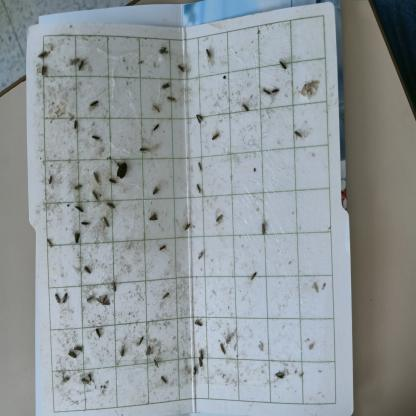prays_oleae: (297, 76, 324, 102), (94, 288, 112, 312), (115, 342, 132, 363), (275, 52, 290, 75), (207, 126, 224, 146), (191, 313, 206, 335), (248, 264, 261, 289), (146, 205, 160, 228), (93, 129, 106, 150), (260, 82, 274, 100), (109, 274, 120, 296), (61, 289, 72, 311), (271, 369, 287, 384), (92, 165, 102, 189), (70, 177, 86, 192), (159, 42, 171, 62), (259, 217, 269, 240), (292, 126, 304, 145), (88, 96, 102, 112), (107, 171, 118, 190), (72, 228, 83, 247), (93, 322, 104, 341), (161, 74, 174, 90), (77, 59, 86, 82), (240, 101, 252, 118), (145, 340, 155, 360), (67, 346, 77, 366), (46, 234, 55, 256), (192, 180, 204, 196), (151, 354, 163, 370), (151, 118, 162, 135), (36, 47, 50, 60), (272, 82, 282, 100), (91, 186, 99, 208), (71, 200, 85, 212), (106, 196, 117, 211), (219, 340, 228, 358), (135, 328, 143, 348), (100, 215, 108, 235), (82, 263, 92, 279), (75, 338, 85, 354), (182, 220, 194, 233), (156, 243, 170, 254), (140, 141, 151, 155), (81, 214, 92, 228), (83, 291, 93, 306), (177, 60, 186, 76), (166, 93, 178, 105), (197, 247, 204, 265), (190, 363, 200, 375), (214, 212, 224, 224), (196, 160, 206, 172), (158, 374, 168, 386), (55, 290, 60, 313), (198, 348, 206, 362), (160, 292, 170, 303), (205, 43, 213, 56), (151, 185, 161, 195), (154, 99, 160, 115), (41, 64, 48, 77), (198, 356, 202, 372)
